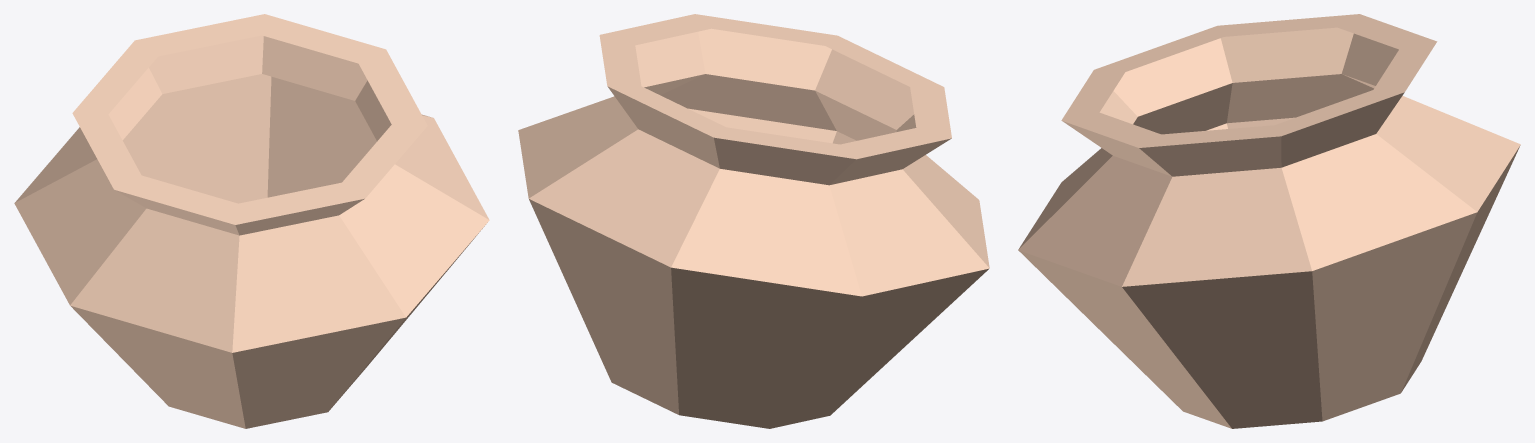
Rendered from KITCHEN INVENTORY 9.fbx.
3 renders of one model, left to right at view 1: azimuth 30°, elevation 25°; view 2: azimuth 150°, elevation 25°; view 3: azimuth 270°, elevation 25°, orthographic. The views are drawn at different scales.
Parts seen in each view (by area): view 1: KITCHEN_INVENTORY_9; view 2: KITCHEN_INVENTORY_9; view 3: KITCHEN_INVENTORY_9.
Part boxes in pixels (<box>): KITCHEN_INVENTORY_9: <box>14,14,489,428</box>; KITCHEN_INVENTORY_9: <box>518,14,989,428</box>; KITCHEN_INVENTORY_9: <box>1018,14,1520,428</box>.
Bounding box in the file's own units: 52.04 × 39.41 × 51.85.
1 material, 1 textured.
